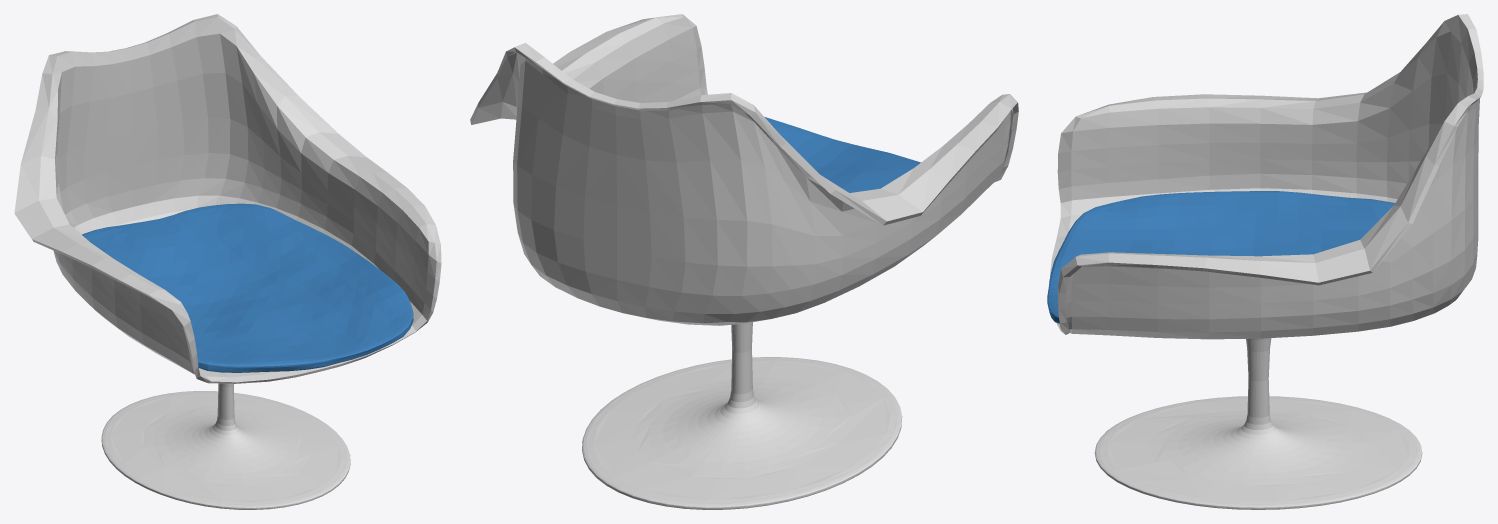
File: sh-bs0-design-chair.glb
The picture shows the model from 3 angles, left to right: view 1: azimuth 30°, elevation 25°; view 2: azimuth 150°, elevation 25°; view 3: azimuth 270°, elevation 25°; orthographic projection. The views are drawn at different scales.
Parts seen in each view (by area): view 1: zidle.desig.noh_Circle.003, zidle.design.polstare_Cube.001; view 2: zidle.desig.noh_Circle.003, zidle.design.polstare_Cube.001; view 3: zidle.desig.noh_Circle.003, zidle.design.polstare_Cube.001.
Part boxes in pixels (box(x1,y1,x2,y2)): zidle.desig.noh_Circle.003: box(14, 14, 441, 509); zidle.design.polstare_Cube.001: box(82, 203, 413, 372); zidle.desig.noh_Circle.003: box(470, 14, 1018, 509); zidle.design.polstare_Cube.001: box(708, 117, 920, 324); zidle.desig.noh_Circle.003: box(1050, 14, 1483, 509); zidle.design.polstare_Cube.001: box(1047, 191, 1395, 323).
Bounding box in the file's own units: 1 × 1 × 1.
